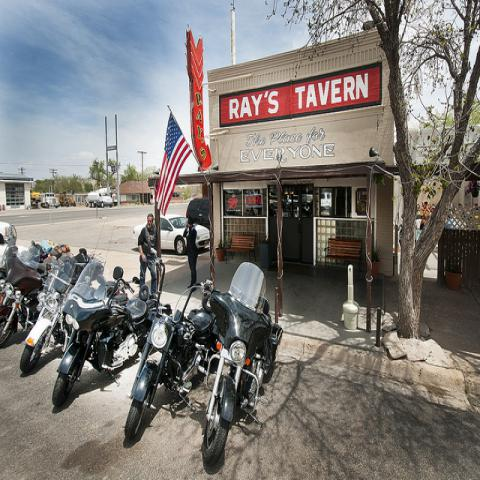car: (160, 214, 210, 255)
motorcycle: (126, 245, 222, 442), (200, 260, 282, 460), (51, 262, 157, 404), (18, 250, 87, 374), (0, 244, 74, 344)
truck: (186, 197, 211, 232), (86, 189, 114, 208), (41, 193, 60, 209)
